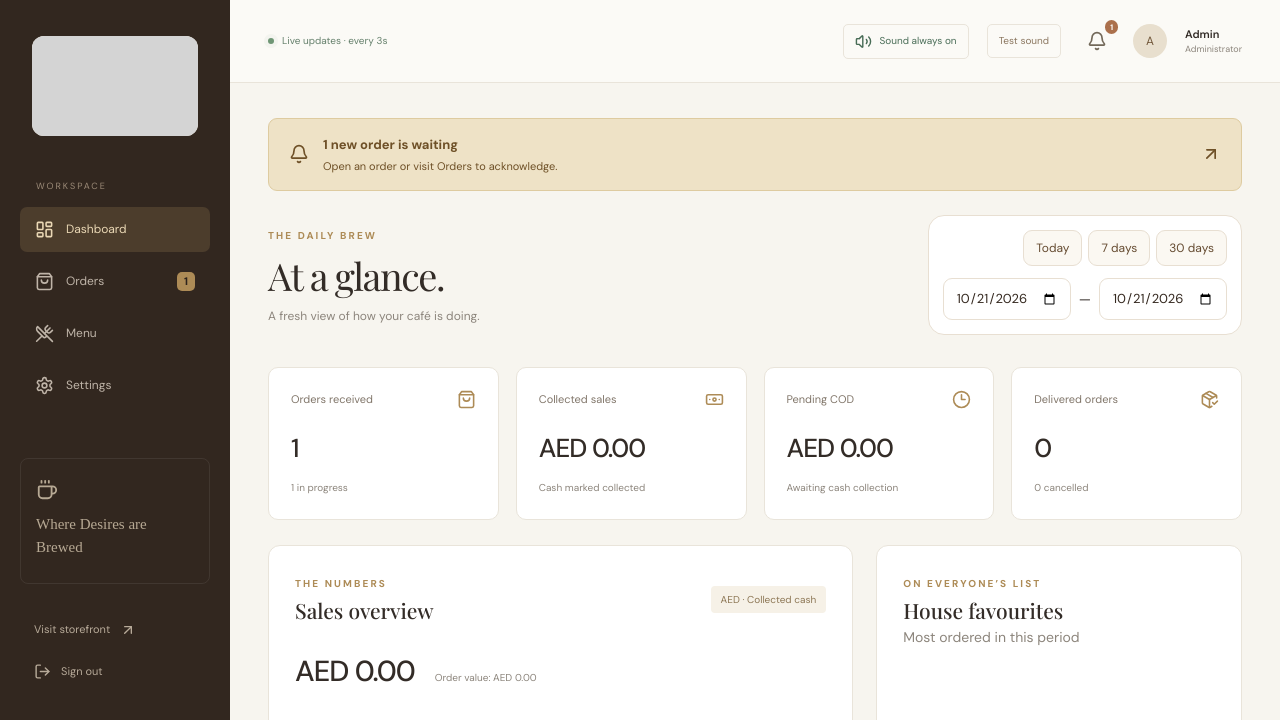
Test case: admin live order notifications › shows an actionable message when the sound file is unavailable
Expected: the text "1 new order is waiting" is shown, left=323, top=136, right=458, bottom=153
Click the button with aria-label "Test order sound" at {"x": 1024, "y": 41}, box left=987, top=24, right=1061, bottom=58
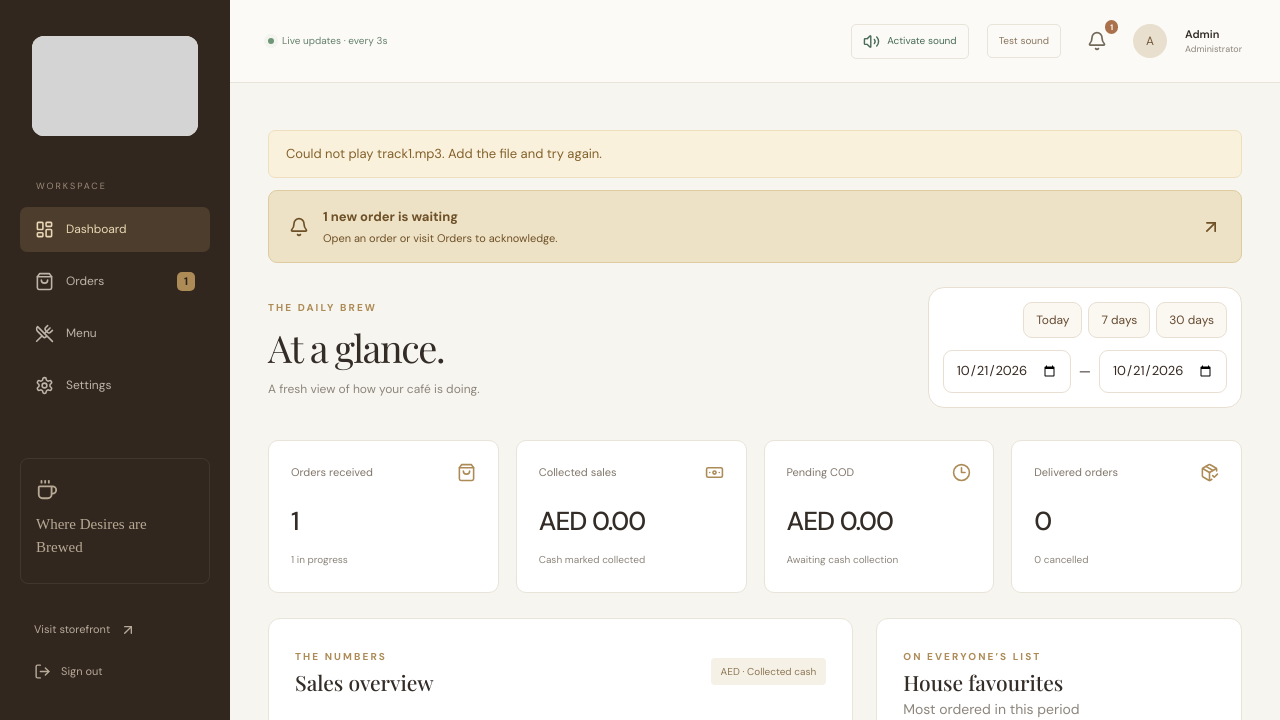
Expected: the text "1 new order is waiting" is shown, left=323, top=208, right=458, bottom=225
Expected: the text "Could not play track1.mp3. Add the file and try again." is shown, left=268, top=130, right=1242, bottom=178
